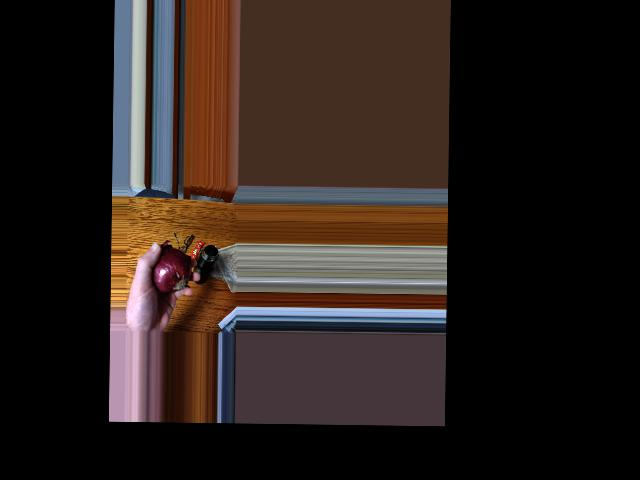onion: (155, 249, 191, 286)
